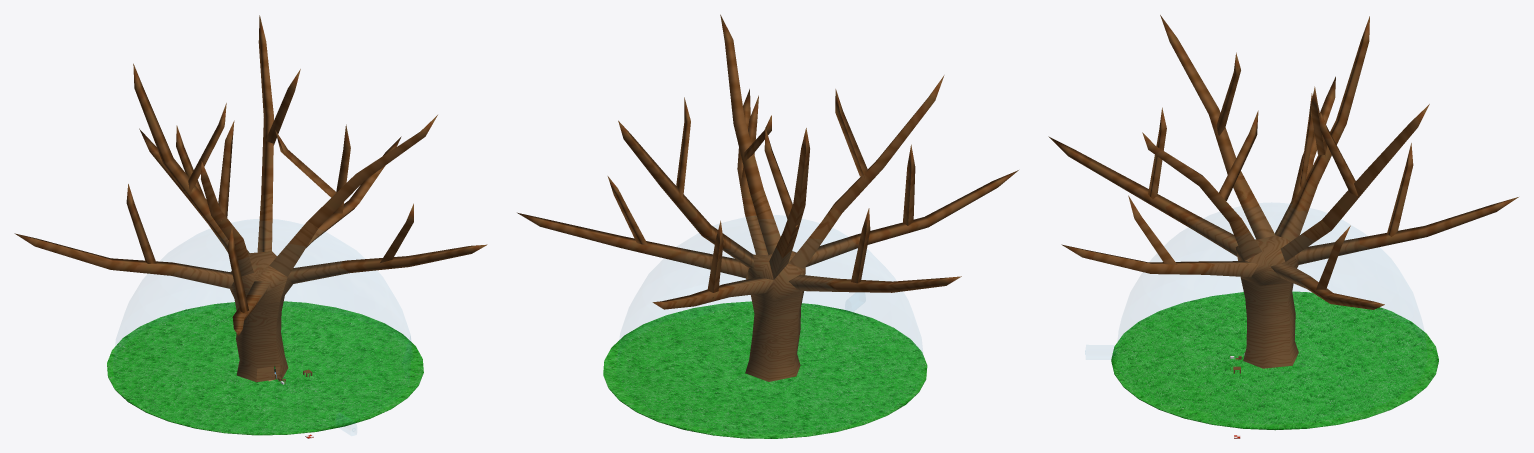
Rendered from JoshuaPFingerle-SandyDome.glb.
The picture shows the model from 3 angles, left to right: view 1: azimuth 30°, elevation 25°; view 2: azimuth 150°, elevation 25°; view 3: azimuth 270°, elevation 25°; orthographic projection. The views are drawn at different scales.
Parts seen in each view (by area): view 1: dome_grass, tree_bark; view 2: dome_grass, tree_bark; view 3: dome_grass, tree_bark.
Boxes of the visible parts, x1,y1,x2,y2 form: dome_grass: [107, 301, 423, 435]; tree_bark: [14, 15, 487, 382]; dome_grass: [603, 301, 927, 438]; tree_bark: [517, 14, 1018, 381]; dome_grass: [1111, 291, 1438, 430]; tree_bark: [1048, 15, 1518, 368].
Bounding box in the file's own units: 2095 × 1722 × 2011.
Materials: 24 (24 with a texture image).
